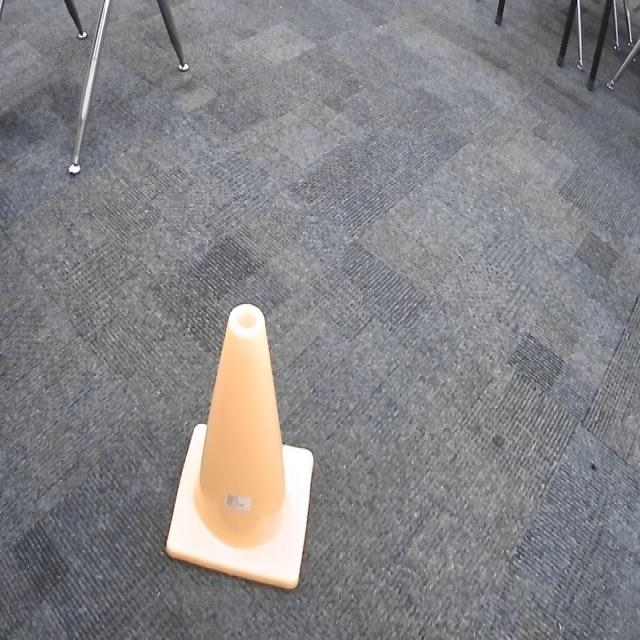cone: (166, 302, 316, 595)
